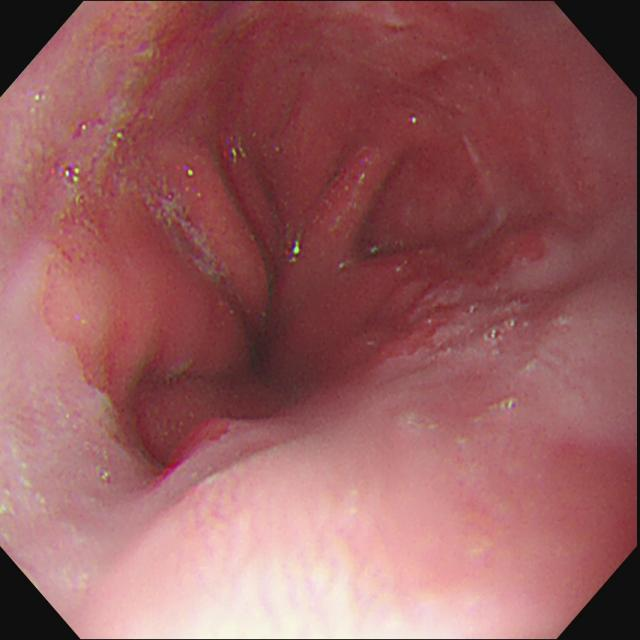I: (94, 56, 471, 449)
T: (146, 190, 226, 285), (59, 165, 80, 189), (485, 327, 504, 344)
U: (286, 239, 303, 263)
